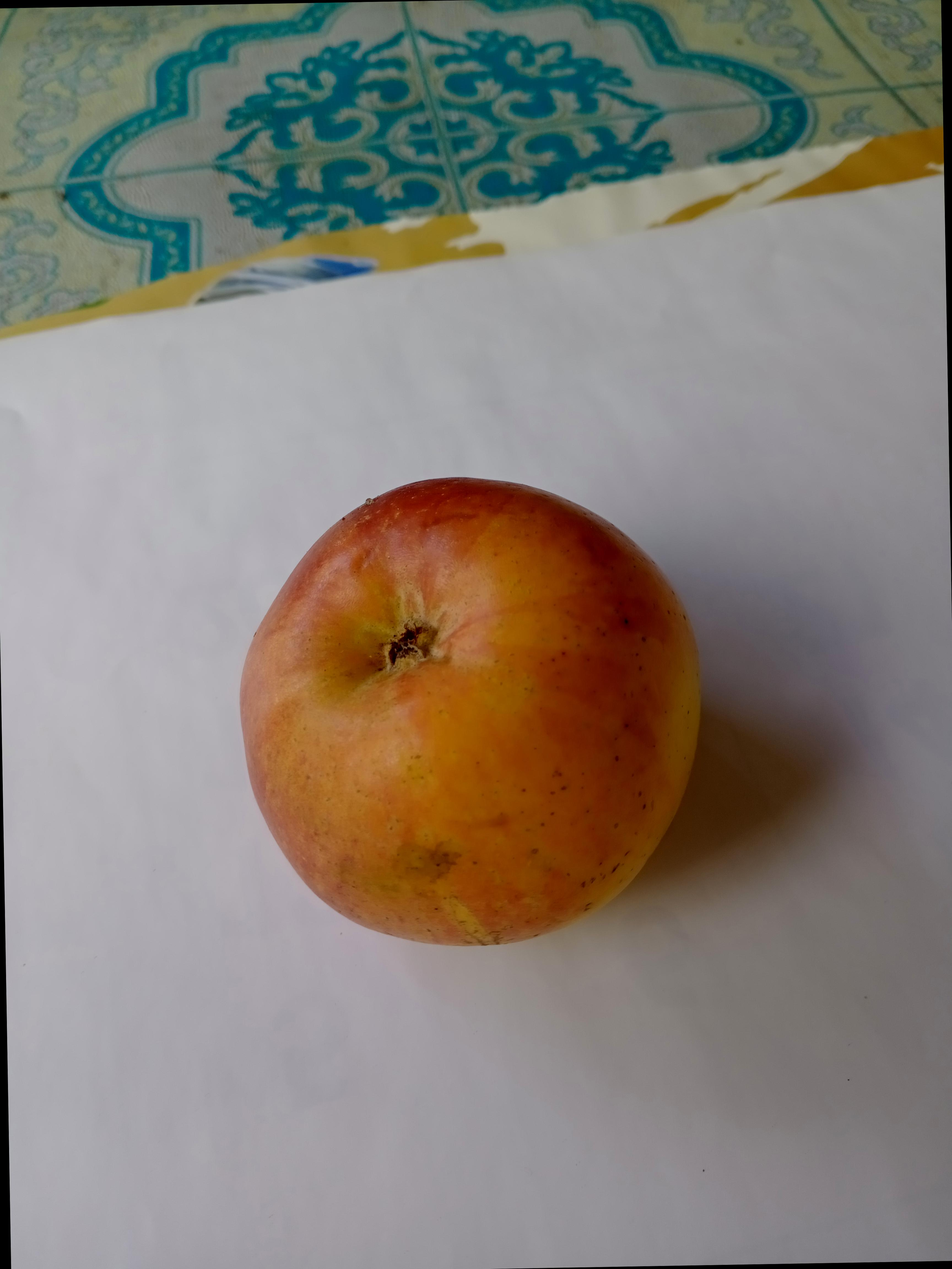Apple Ripe: (189, 461, 708, 993)
